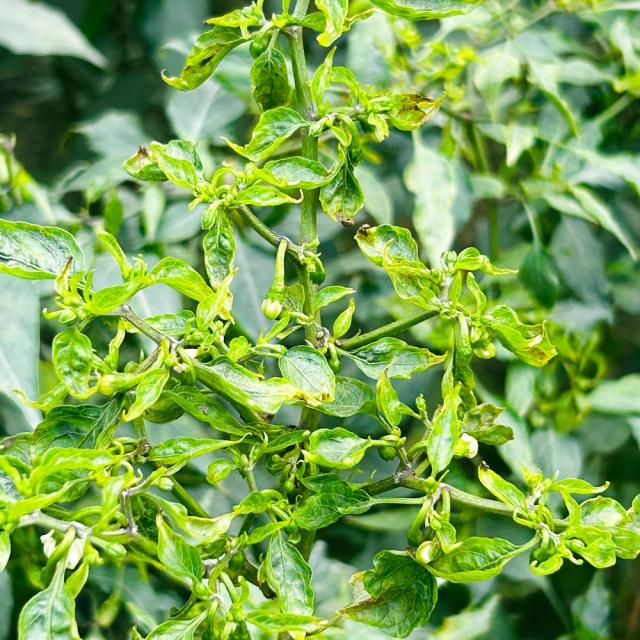Chilli_Leaf_Curl: (0, 1, 638, 638), (351, 222, 558, 476), (476, 460, 638, 576)
